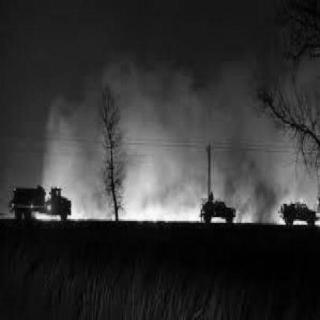Fire: (30, 173, 318, 225)
